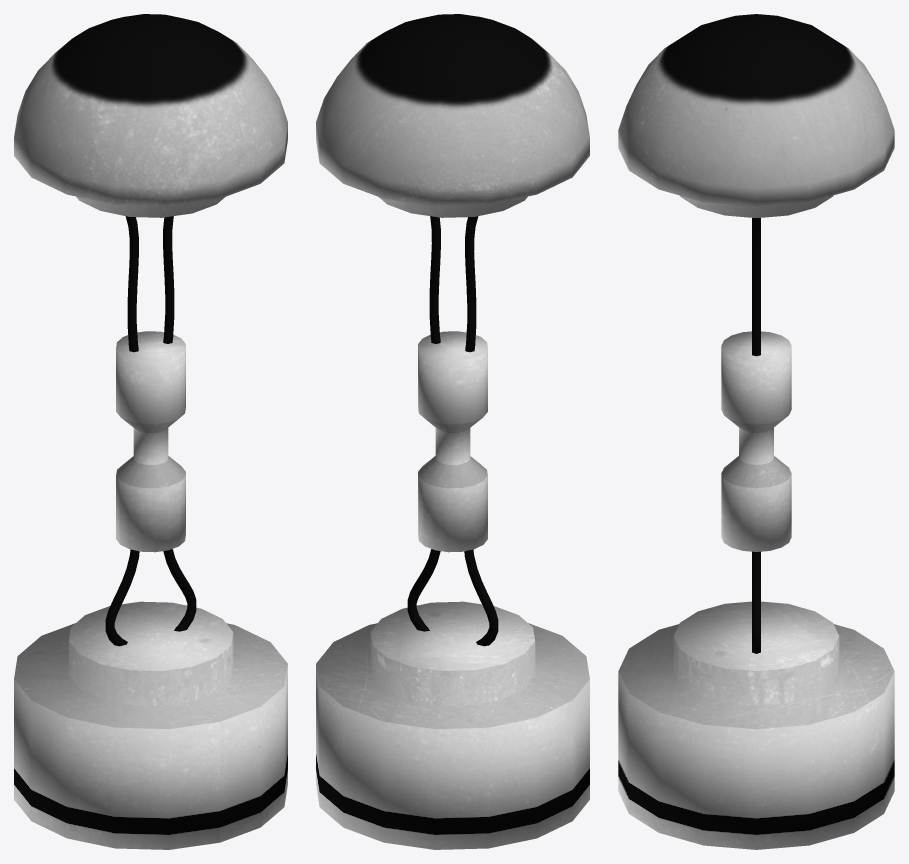
File: bomb2.fbx
The picture shows the model from 3 angles, left to right: view 1: azimuth 30°, elevation 25°; view 2: azimuth 150°, elevation 25°; view 3: azimuth 270°, elevation 25°; orthographic projection.
Parts seen in each view (by area): view 1: Sphere; view 2: Sphere; view 3: Sphere.
Part boxes in pixels (x1,y1,x2,y2): Sphere: [14, 14, 287, 849]; Sphere: [316, 14, 589, 849]; Sphere: [618, 14, 894, 849].
Size of the model in its own units: 0.3923 by 1.2 by 0.3923.
